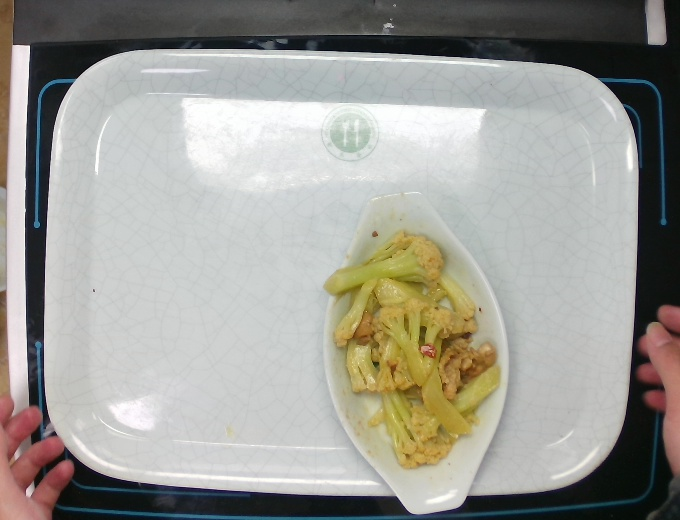JYsf-Yu_Pan: (318, 188, 512, 516)
